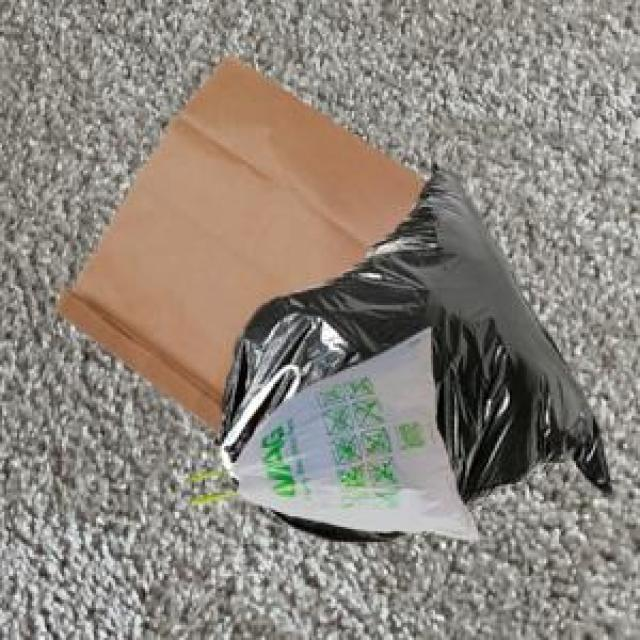miscellaneous trash: (211, 158, 608, 538)
paper: (53, 51, 422, 429)
